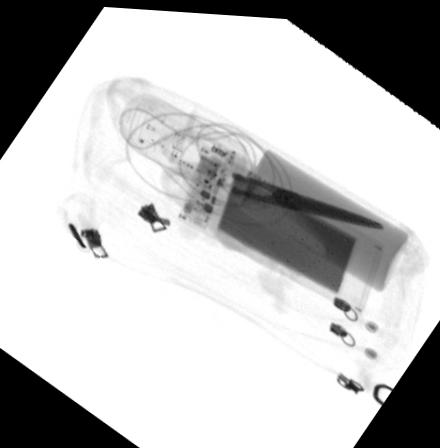Powerbank: (175, 145, 385, 309)
Scissors: (182, 109, 385, 226)
